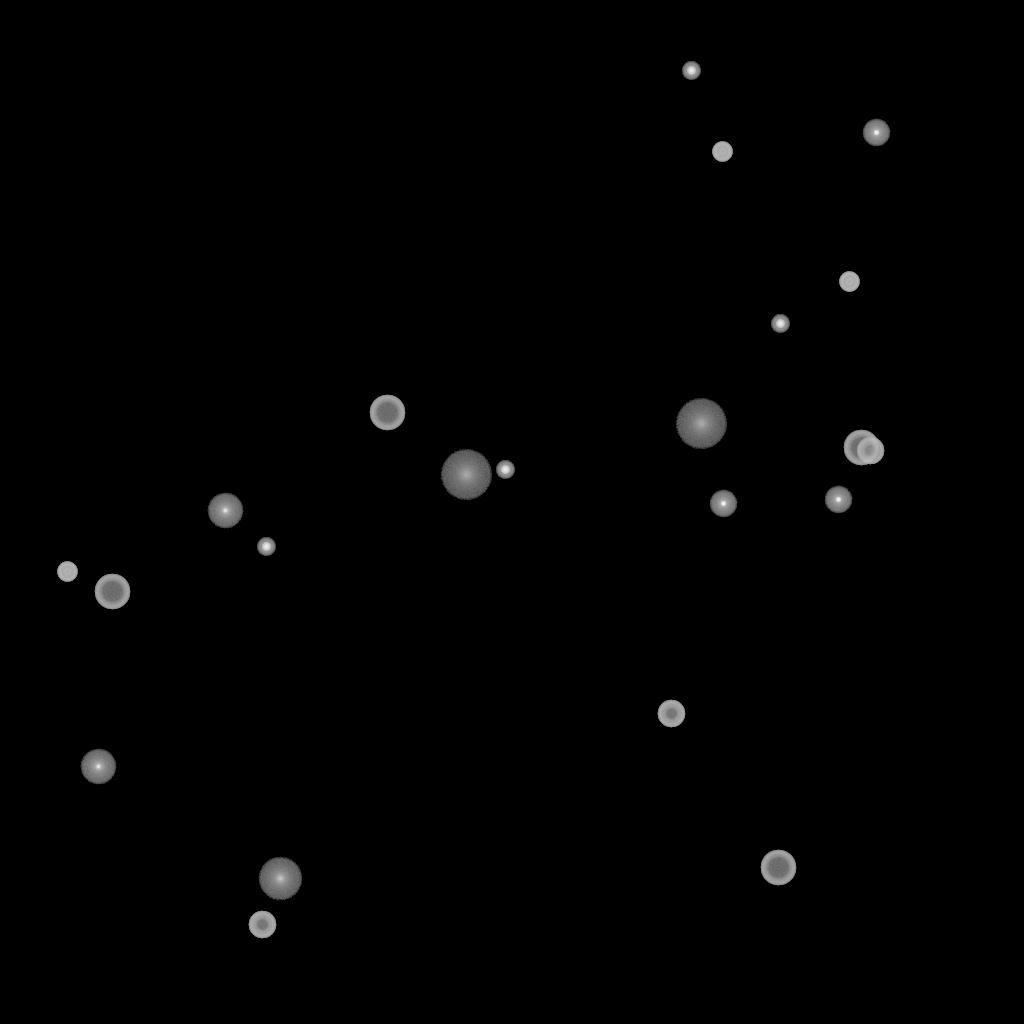depth:-10: (709, 490, 737, 518), (824, 486, 852, 514), (862, 119, 890, 147)
depth:-20: (257, 538, 275, 556), (682, 62, 700, 80), (771, 315, 789, 333), (496, 461, 514, 479)
depth:-40: (712, 142, 732, 162), (839, 272, 859, 292), (57, 562, 77, 582)
depth:-50: (856, 437, 884, 465), (657, 700, 685, 728), (248, 911, 276, 939)
depth:-60: (94, 574, 130, 610), (369, 395, 405, 431), (760, 850, 796, 886), (843, 430, 879, 466)
depth:0: (80, 749, 116, 785), (207, 493, 243, 529)
depth:10: (258, 857, 302, 901)
depth:20: (440, 450, 492, 500), (675, 399, 727, 449)
